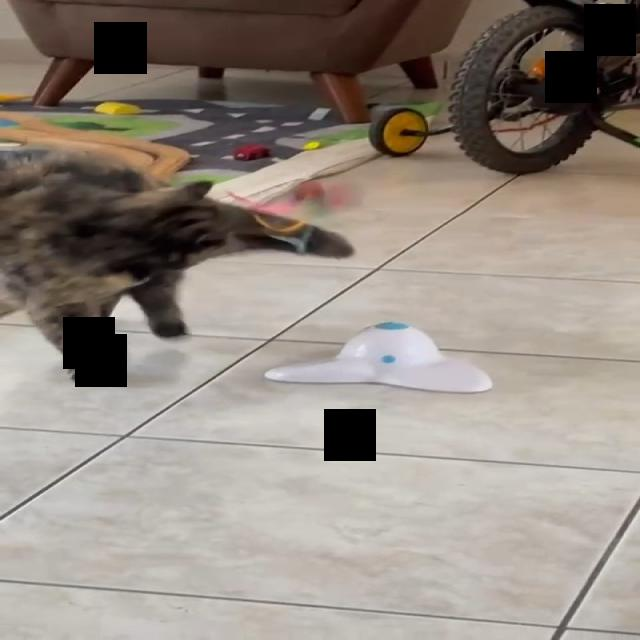authorized: (0, 147, 355, 383)
